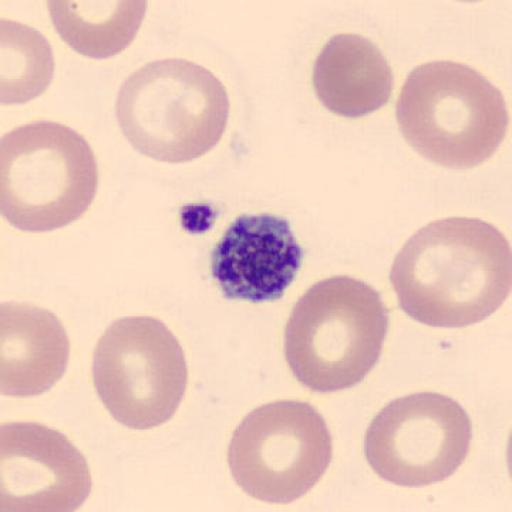Platelet: (205, 208, 308, 304)
RBC: (387, 214, 510, 332), (282, 272, 391, 396), (112, 54, 232, 166), (393, 58, 510, 172), (224, 396, 336, 508), (90, 313, 190, 433), (1, 118, 101, 235), (361, 389, 475, 490), (3, 417, 94, 512), (310, 31, 395, 120), (2, 298, 72, 399), (46, 0, 150, 62), (1, 17, 57, 107), (3, 489, 87, 512), (503, 412, 512, 501), (434, 0, 512, 4)
